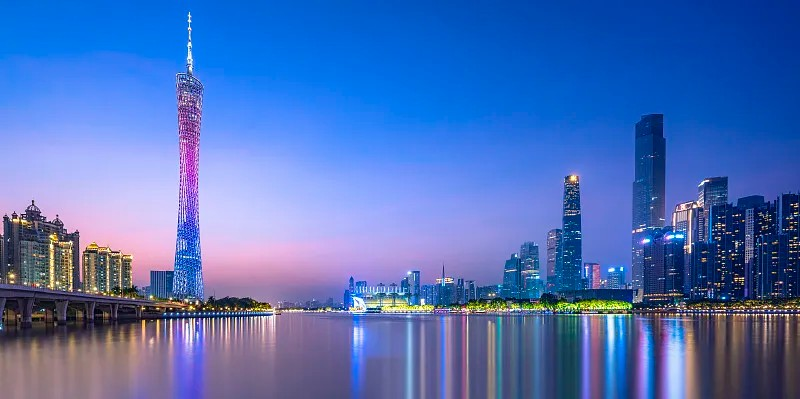Canton: (169, 8, 207, 304)
